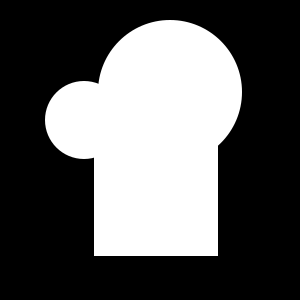circle: (94, 132, 218, 256)
rectangle: (98, 20, 242, 164), (45, 81, 123, 159)
